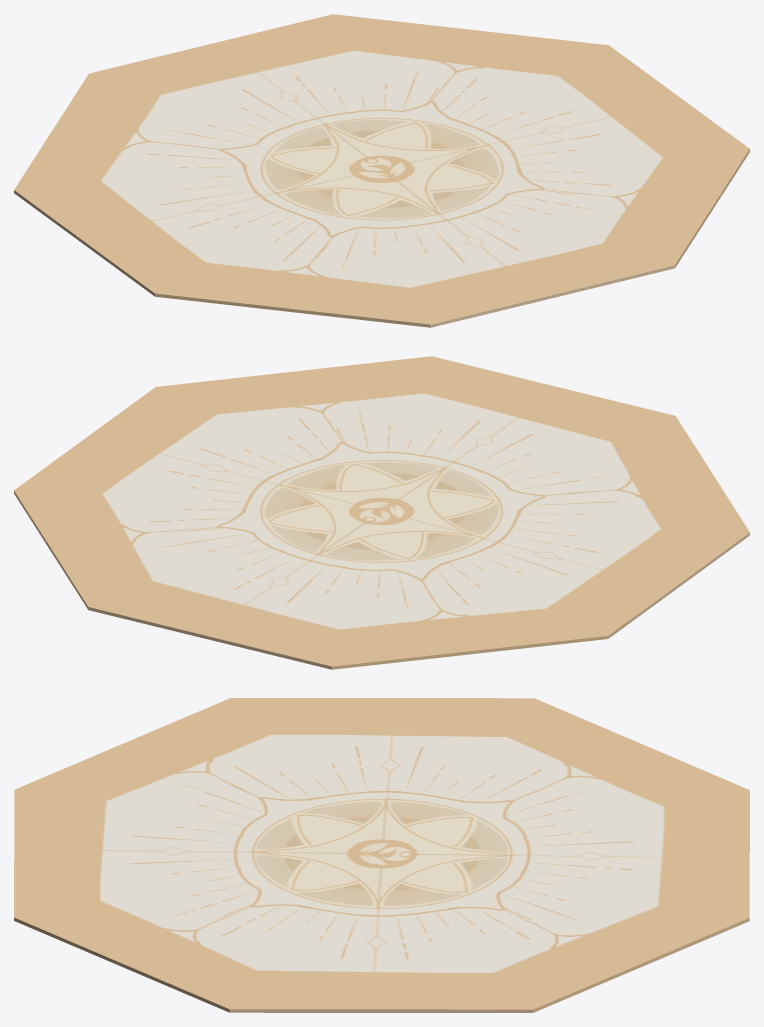
File: game_board.glb
3 renders of one model, top to bottom at view 1: azimuth 30°, elevation 25°; view 2: azimuth 150°, elevation 25°; view 3: azimuth 270°, elevation 25°, orthographic. The views are drawn at different scales.
Parts seen in each view (by area): view 1: Plane; view 2: Plane; view 3: Plane.
Part boxes in pixels (x1,y1,x2,y2): Plane: [14, 14, 749, 327]; Plane: [14, 356, 749, 669]; Plane: [14, 698, 749, 1012].
Bounding box in the file's own units: 0.4883 × 0.00251 × 0.4875.
1 material, 1 textured.
